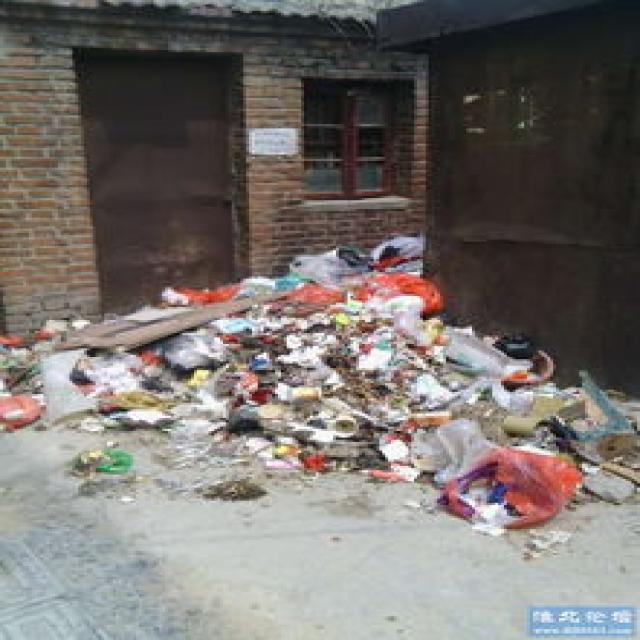garbage: (0, 233, 634, 531)
